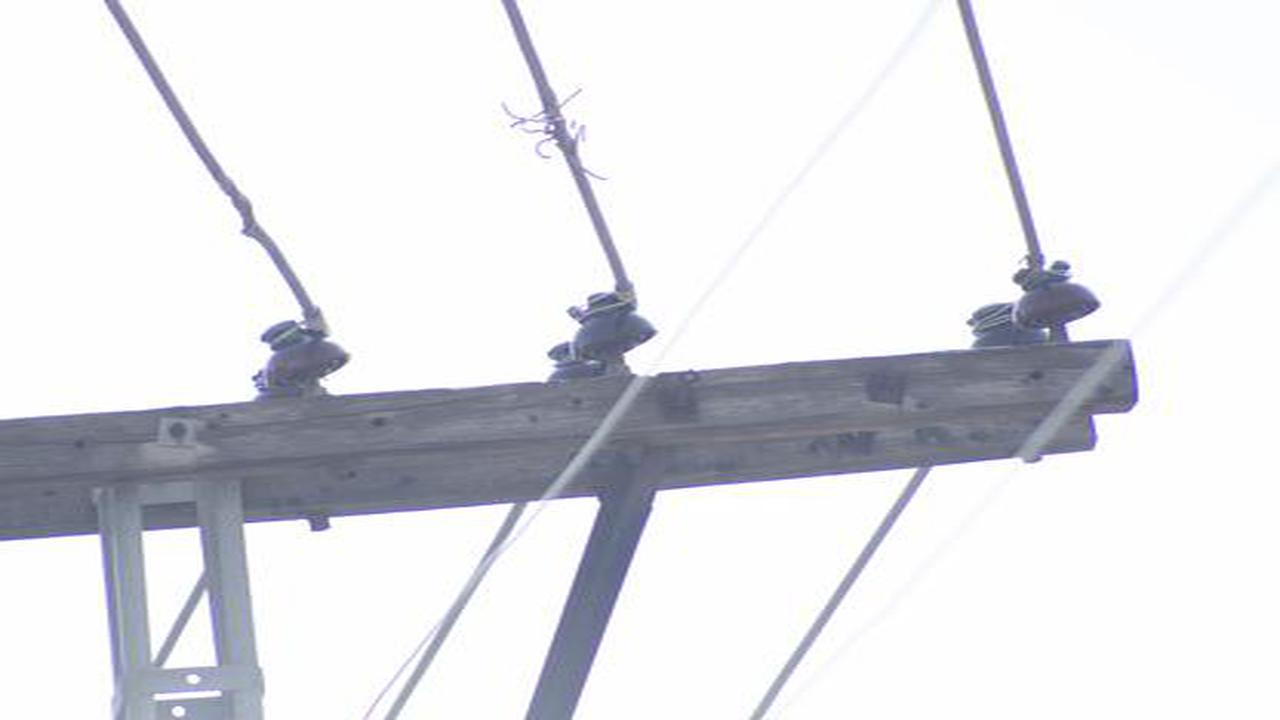insulator_pin: (1001, 252, 1106, 339), (252, 316, 355, 396), (557, 288, 661, 364)
